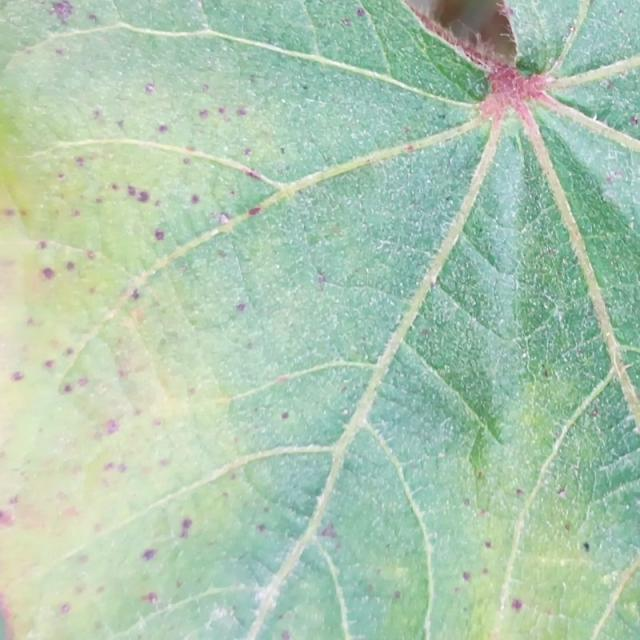Bacterial_Blight: (447, 502, 569, 631), (28, 235, 104, 295), (5, 478, 72, 536), (194, 102, 245, 127), (141, 224, 182, 248), (91, 413, 123, 441), (0, 588, 19, 635), (133, 536, 162, 566), (53, 378, 81, 399), (50, 1, 75, 24), (62, 375, 89, 395), (126, 184, 153, 204), (602, 188, 623, 208), (211, 211, 232, 226), (179, 518, 193, 539), (320, 523, 338, 539), (245, 168, 264, 182), (606, 171, 623, 186), (0, 509, 14, 525), (142, 592, 158, 604), (41, 267, 55, 280), (11, 371, 24, 382), (92, 108, 103, 120), (3, 208, 17, 217), (44, 359, 55, 370), (606, 80, 617, 91), (504, 6, 515, 17), (103, 462, 115, 472), (248, 207, 261, 216), (198, 109, 209, 119), (157, 124, 168, 134), (127, 185, 137, 196), (628, 115, 638, 126), (145, 83, 155, 94), (75, 156, 85, 166), (117, 463, 127, 473), (557, 489, 567, 499), (60, 604, 70, 614), (317, 273, 326, 284), (55, 48, 66, 57), (87, 250, 96, 260), (159, 458, 169, 467), (217, 249, 227, 258), (116, 119, 125, 129), (256, 524, 266, 533), (9, 496, 19, 505), (236, 303, 246, 312), (190, 195, 200, 204), (462, 571, 471, 581), (88, 14, 98, 23), (278, 375, 289, 383), (38, 241, 47, 250), (479, 508, 488, 517), (357, 8, 366, 17), (341, 18, 351, 26), (249, 74, 257, 83), (65, 348, 74, 356), (516, 488, 524, 497), (583, 542, 590, 552), (244, 148, 252, 156), (218, 107, 226, 115), (202, 84, 210, 92), (183, 157, 191, 165), (403, 127, 411, 135), (281, 412, 289, 420), (393, 591, 401, 599), (591, 408, 598, 417), (406, 145, 415, 152), (57, 173, 65, 180), (421, 329, 429, 336), (564, 523, 571, 531), (485, 540, 492, 548), (463, 498, 470, 506), (543, 369, 550, 377), (569, 25, 576, 33), (196, 1, 203, 9), (281, 634, 290, 640), (635, 116, 640, 126), (482, 568, 489, 575), (617, 9, 624, 16), (342, 408, 349, 415), (477, 471, 483, 479), (636, 425, 640, 436), (280, 147, 285, 155), (302, 84, 308, 90)
Cotton: (0, 0, 639, 639)
